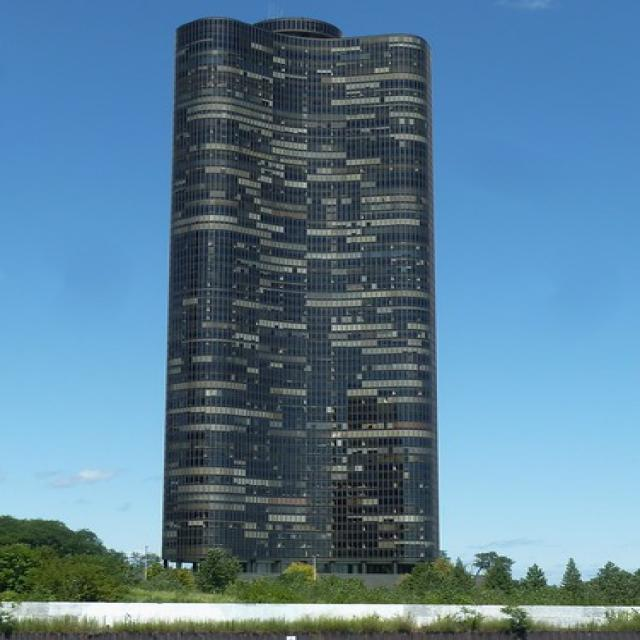building: (160, 9, 454, 595)
